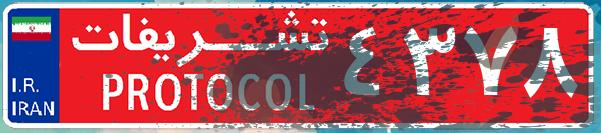3: (400, 20, 460, 115)
4: (340, 20, 400, 115)
7: (460, 20, 520, 115)
8: (520, 20, 580, 115)
تشریفات: (60, 8, 340, 125)
